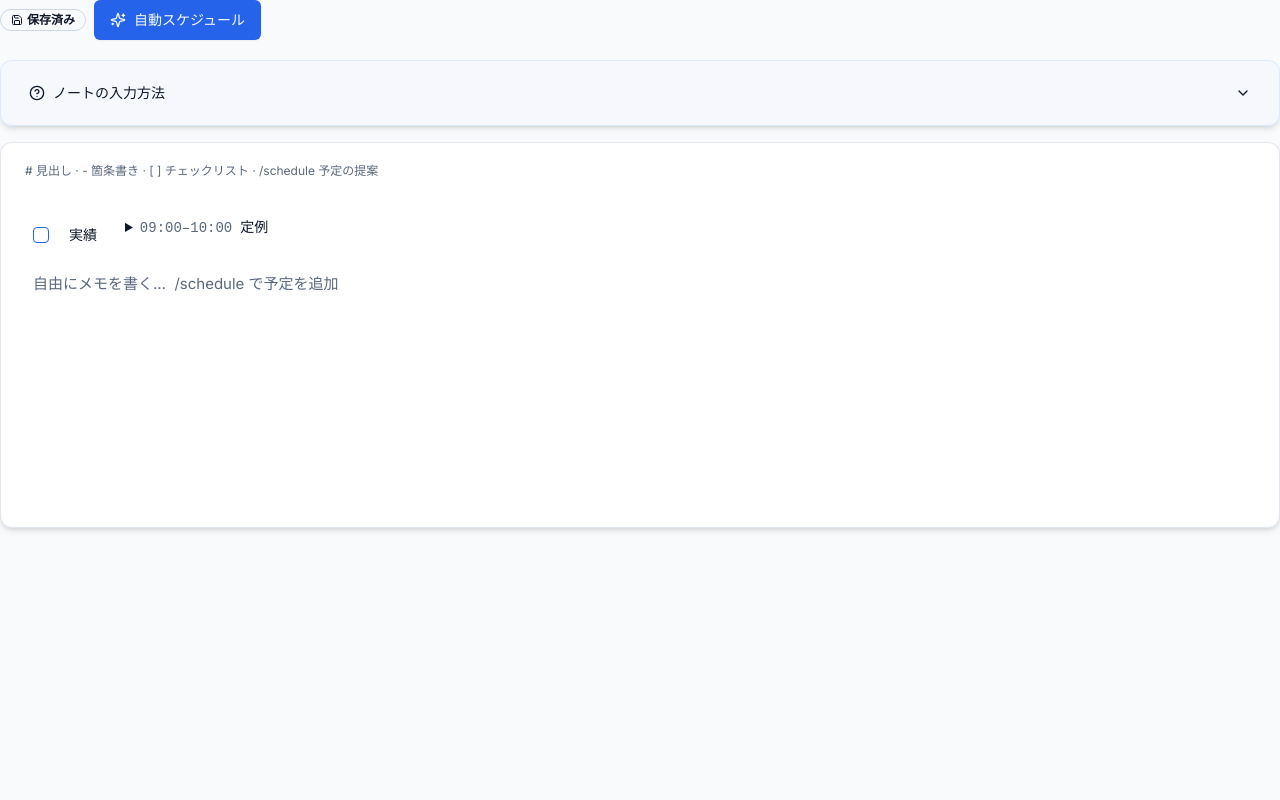
Test: DailyPlanWorkspace › fixed line task link › loads a linked line's task on the dashboard and names it once loaded
This screenshot has width=1280, height=800.
Expected: the field named "日次ノート" is shown, [33,217,268,253]
Click the button "実績". click: (83, 235)
box: [57,217,109,253]
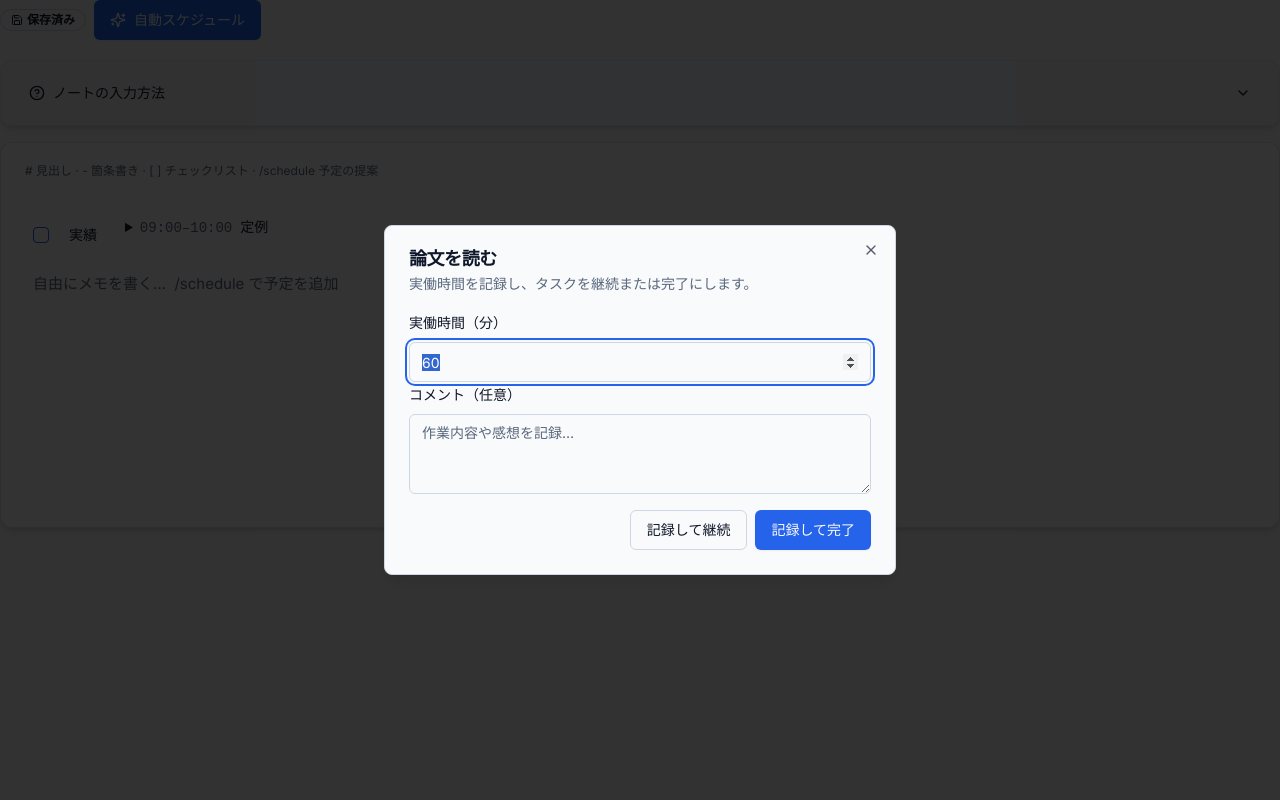
Expected: the dialog "論文を読む" is shown, [384,225,896,575]
